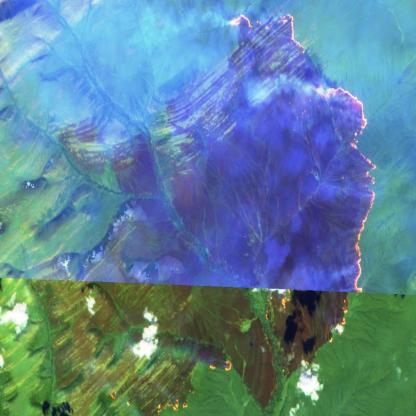fire: (314, 78, 378, 301), (226, 6, 310, 60)
